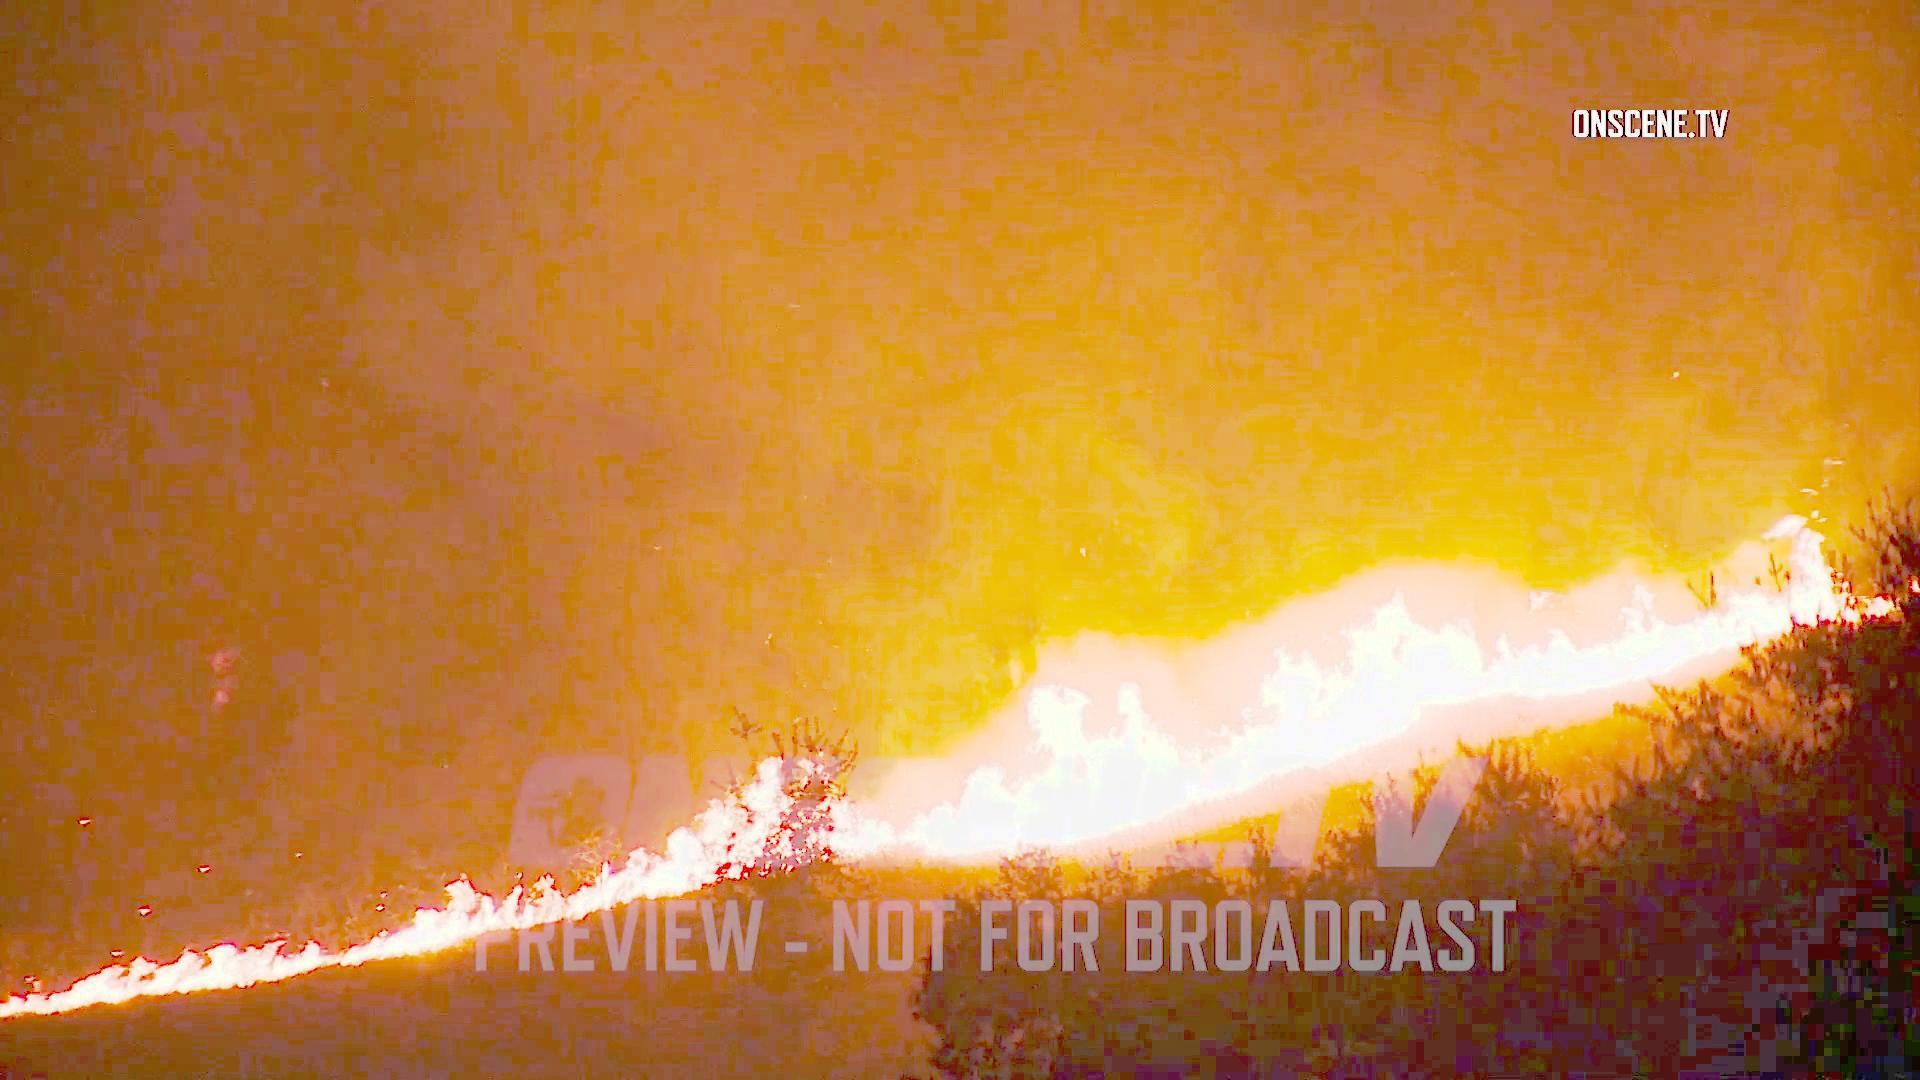fire: (1167, 603, 1465, 796), (909, 658, 1191, 847), (1498, 541, 1718, 703)
smoke: (733, 0, 1317, 625)
